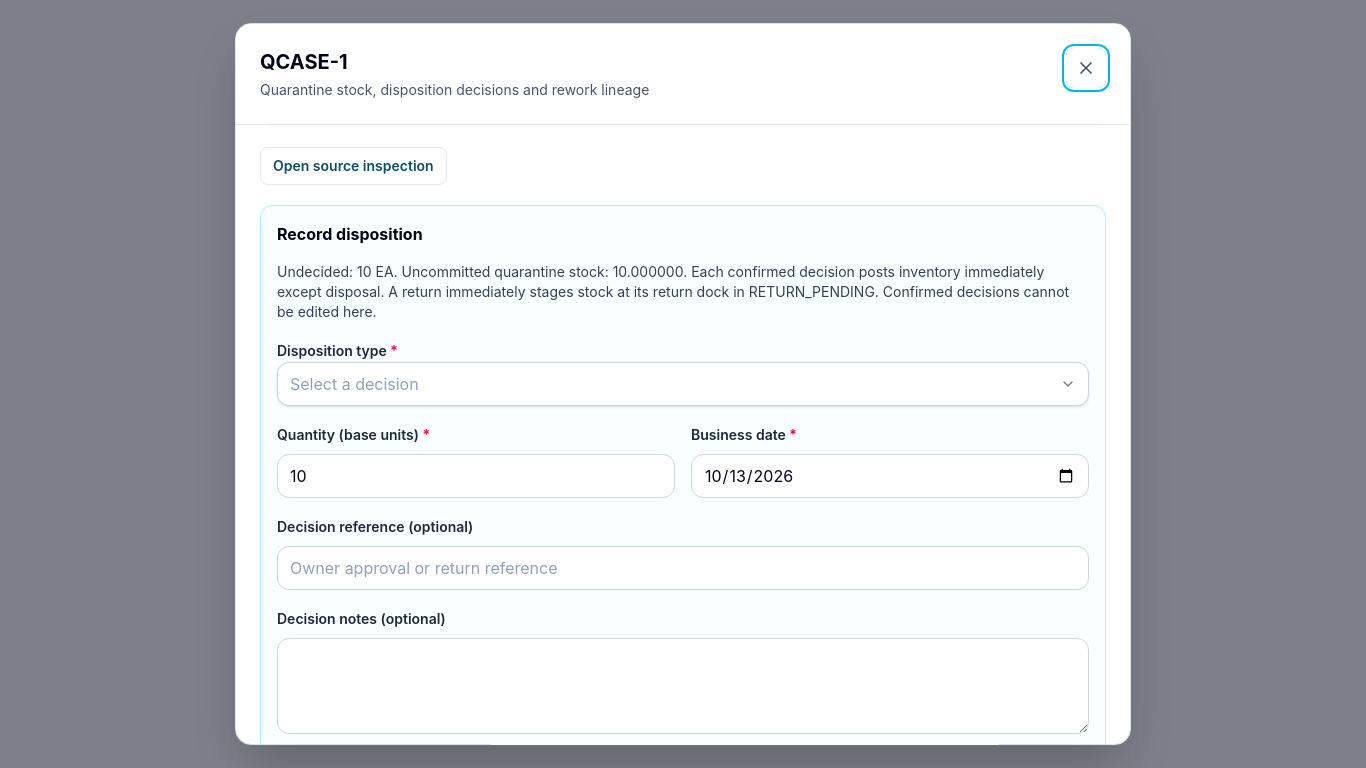
Test: quarantine decisions › confirms the DISPOSE lifecycle for a fully committed case
(page scrolled)
Click the dropdown named "Disposition type" at (354, 384), box [277,362,1089,406]
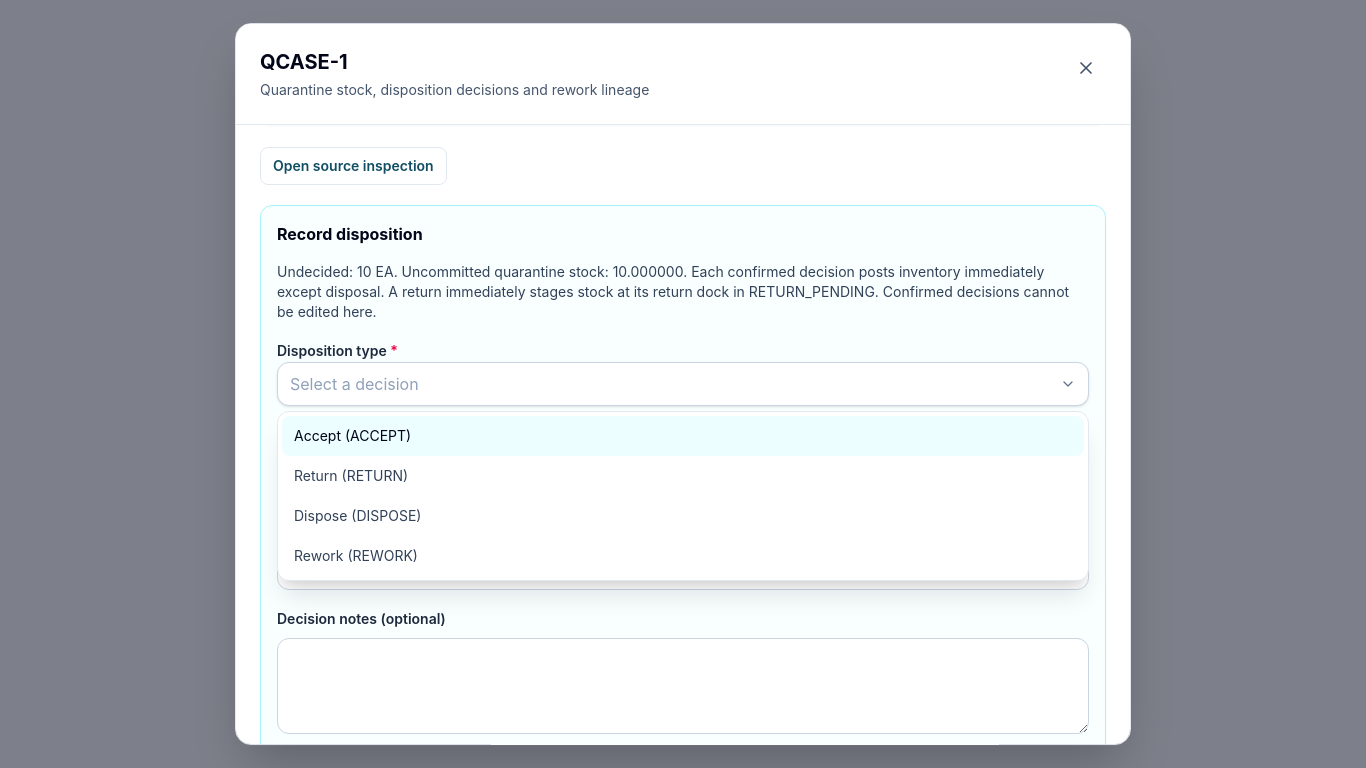
Click the option "Dispose (DISPOSE)" at (358, 516), box [294,507,422,524]
(page scrolled)
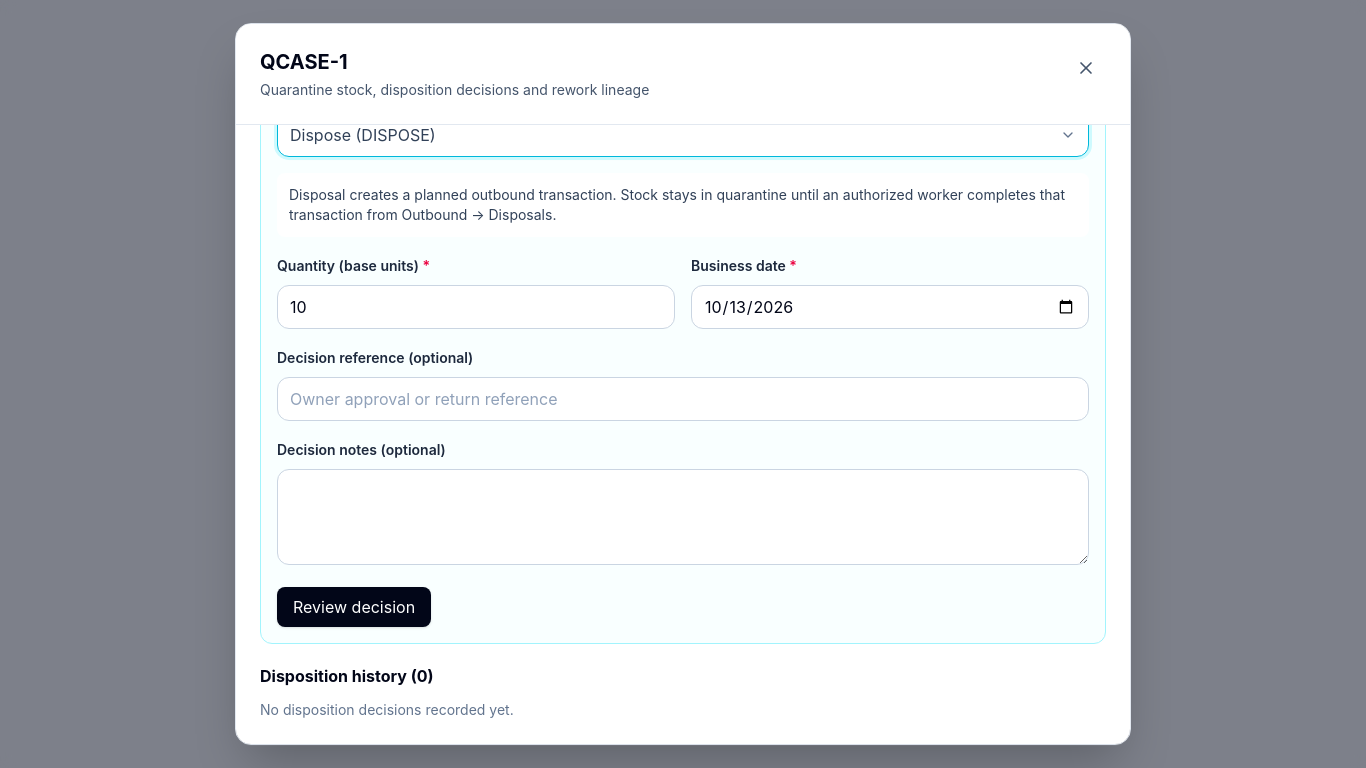
Click the button "Review decision" at (354, 607), box [277,587,431,627]
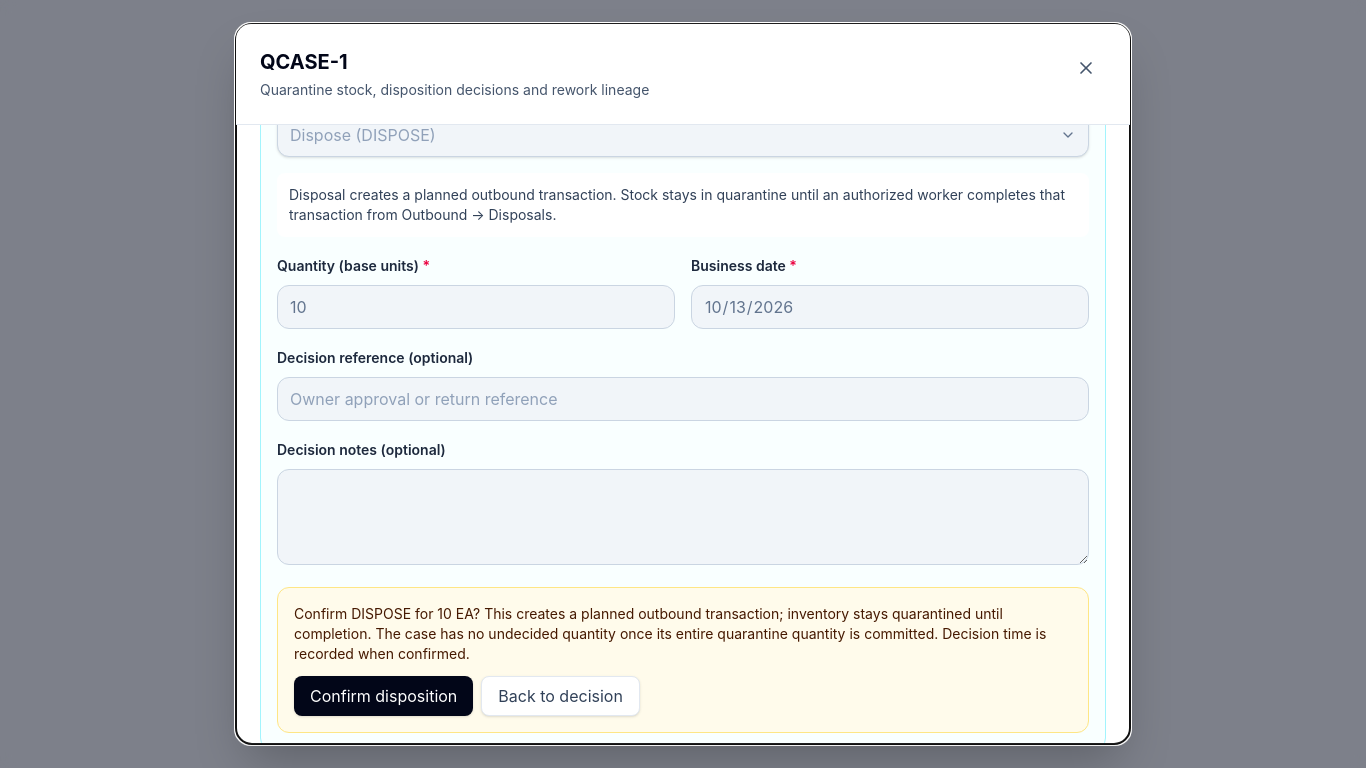
Click the button "Confirm disposition" at (384, 696), box [294,676,473,716]
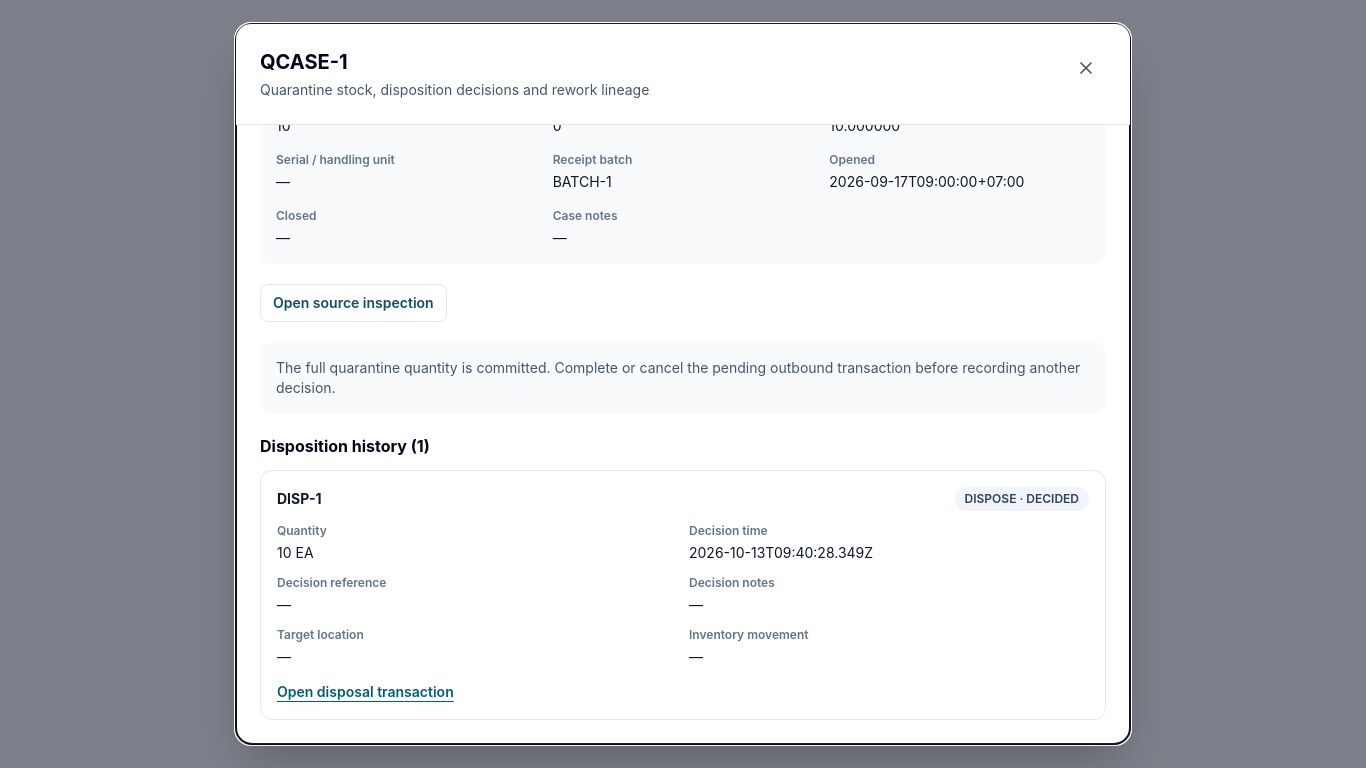
Expected: the button "Review decision" is not shown
Expected: the text "full quarantine quantity is committed" is shown, [276,359,1080,396]
Expected: the text "—" below "Target location" is shown, [277,648,291,665]
